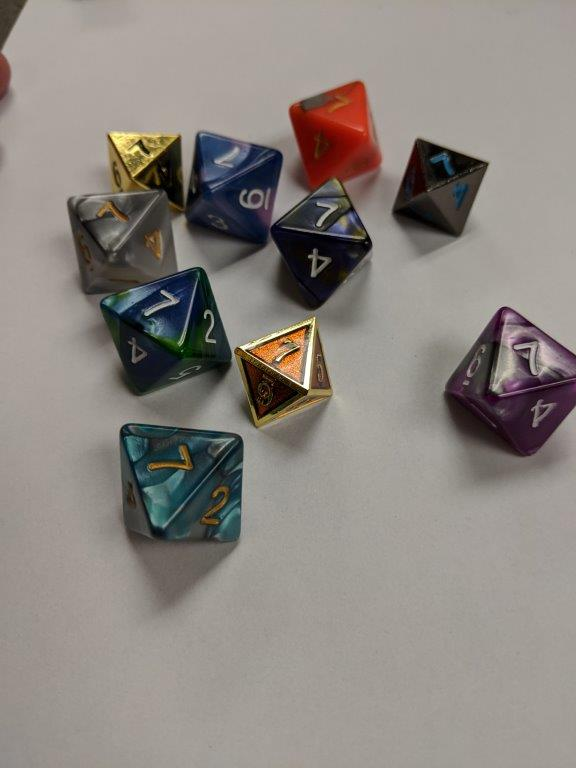d8-7: (442, 304, 576, 454), (98, 268, 232, 398), (120, 420, 247, 546), (272, 177, 370, 306), (233, 315, 337, 426), (70, 187, 176, 290), (188, 130, 283, 243), (388, 137, 491, 237), (288, 80, 379, 191), (104, 126, 185, 217)
